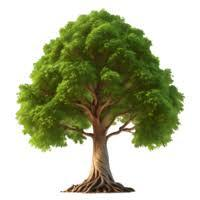plant: (14, 7, 186, 196)
